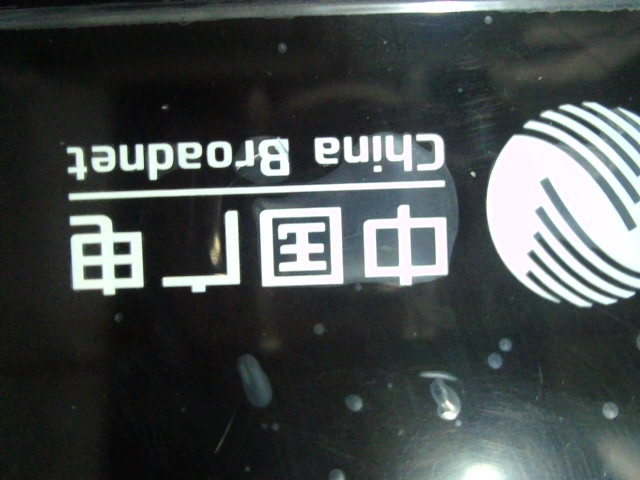AW_ChinaBroadNet: (50, 95, 637, 319)
